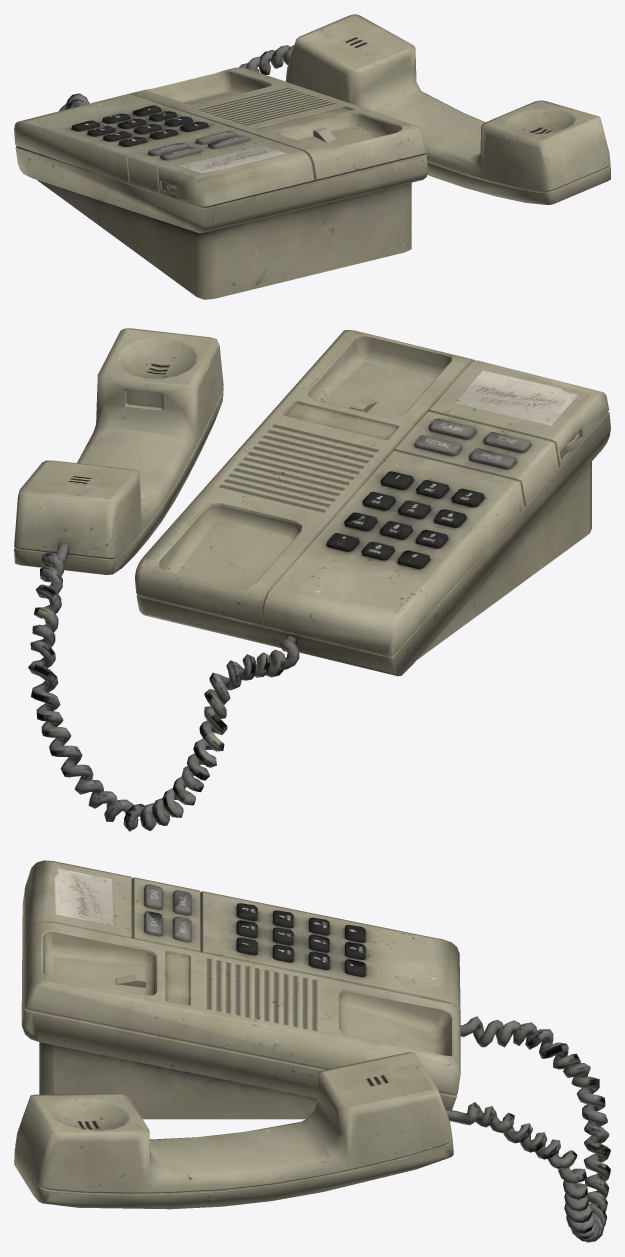
Rendered from landline_phone.glb.
3 views of the same model, one above another, from view 1: azimuth 30°, elevation 25°; view 2: azimuth 150°, elevation 25°; view 3: azimuth 270°, elevation 25° (orthographic). The views are drawn at different scales.
Parts seen in each view (by area): view 1: Phone_01_-_Default_0; view 2: Phone_01_-_Default_0; view 3: Phone_01_-_Default_0.
Part boxes in pixels (left/top/right/bottom): Phone_01_-_Default_0: left=14, top=14, right=610, bottom=299; Phone_01_-_Default_0: left=14, top=328, right=610, bottom=831; Phone_01_-_Default_0: left=14, top=860, right=610, bottom=1242.
Size of the model in its own units: 0.2977 by 0.168 by 0.3233.
1 material, 1 textured.
